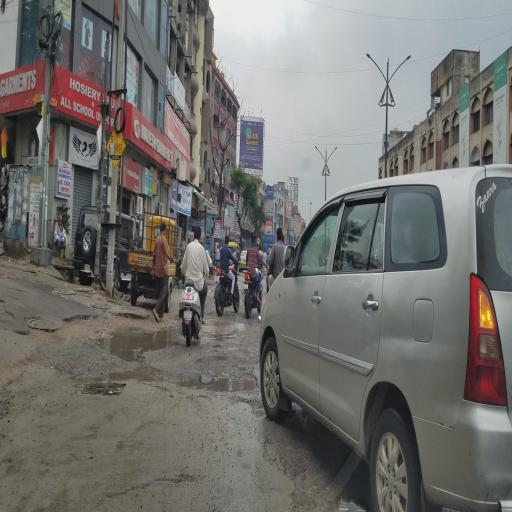street_light_0: (359, 41, 384, 117), (384, 52, 414, 110), (324, 141, 348, 173), (301, 145, 325, 177)
